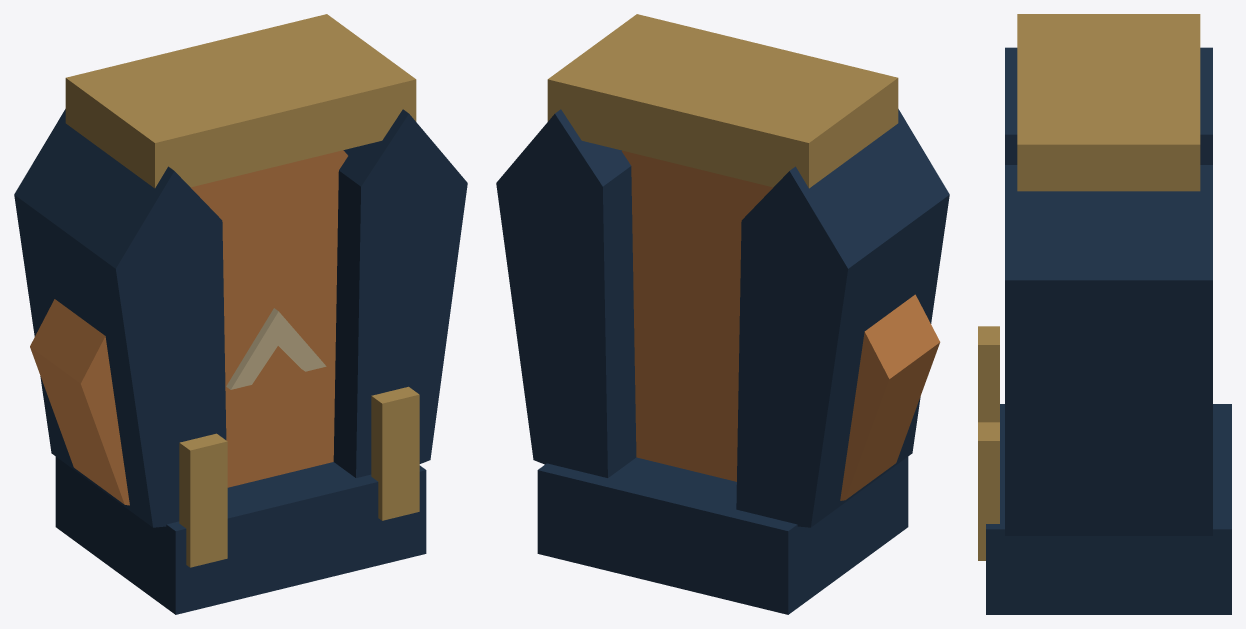
Rendered from DAMAGE_CELL.shadow.glb.
3 renders of one model, left to right at view 1: azimuth 30°, elevation 25°; view 2: azimuth 150°, elevation 25°; view 3: azimuth 270°, elevation 25°, orthographic. The views are drawn at different scales.
Visible parts, largest first — view 1: Body_Mesh; view 2: Body_Mesh; view 3: Body_Mesh.
Boxes of the visible parts, x1=… form: Body_Mesh: x1=14, y1=14, x2=467, y2=614; Body_Mesh: x1=496, y1=14, x2=949, y2=614; Body_Mesh: x1=978, y1=14, x2=1231, y2=614.
Size of the model in its own units: 0.684 by 0.8275 by 0.4025.
